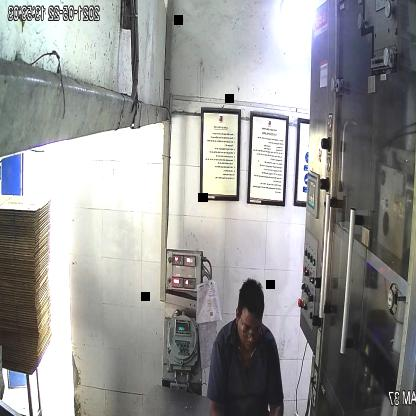goggles: (237, 318, 263, 346)
